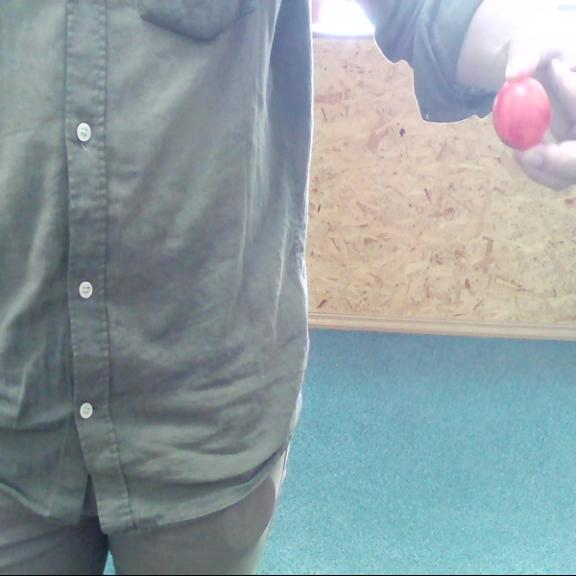ball: (494, 77, 549, 152)
